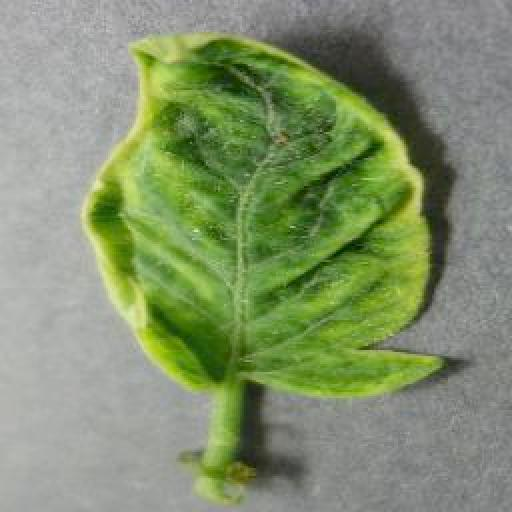disease_tomato: (80, 29, 444, 403)
